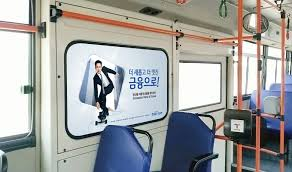exit: (176, 47, 235, 172)
